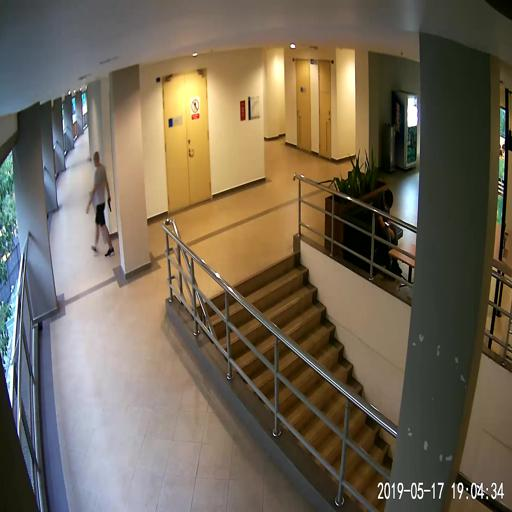pistol: (106, 196, 112, 212)
